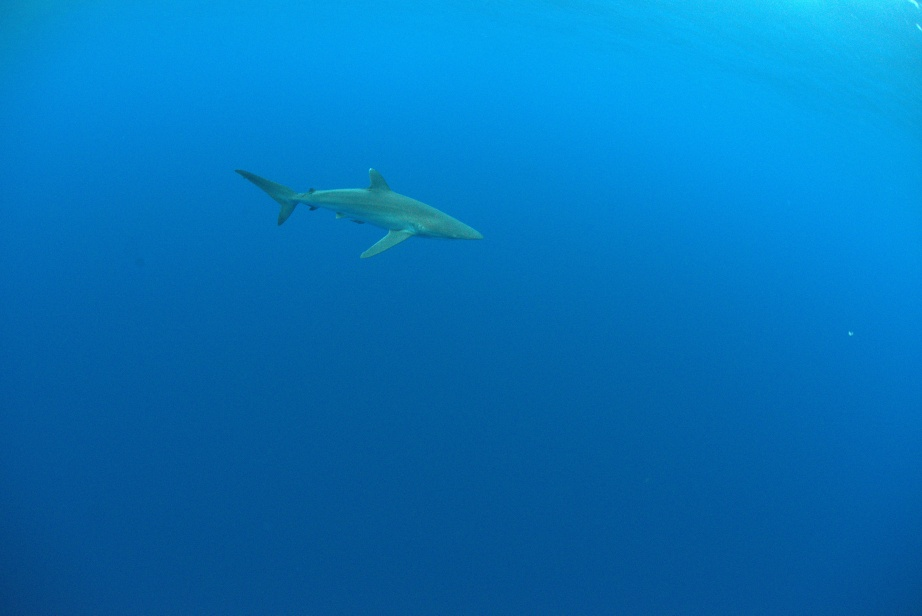Sedoso: (212, 146, 498, 267)
